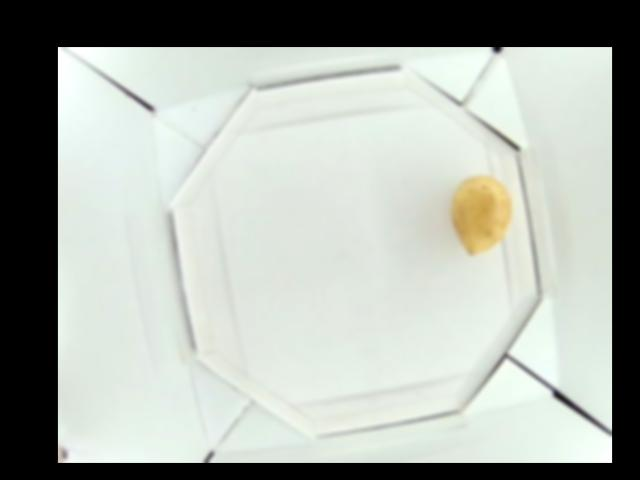Potato: (449, 175, 515, 255)
